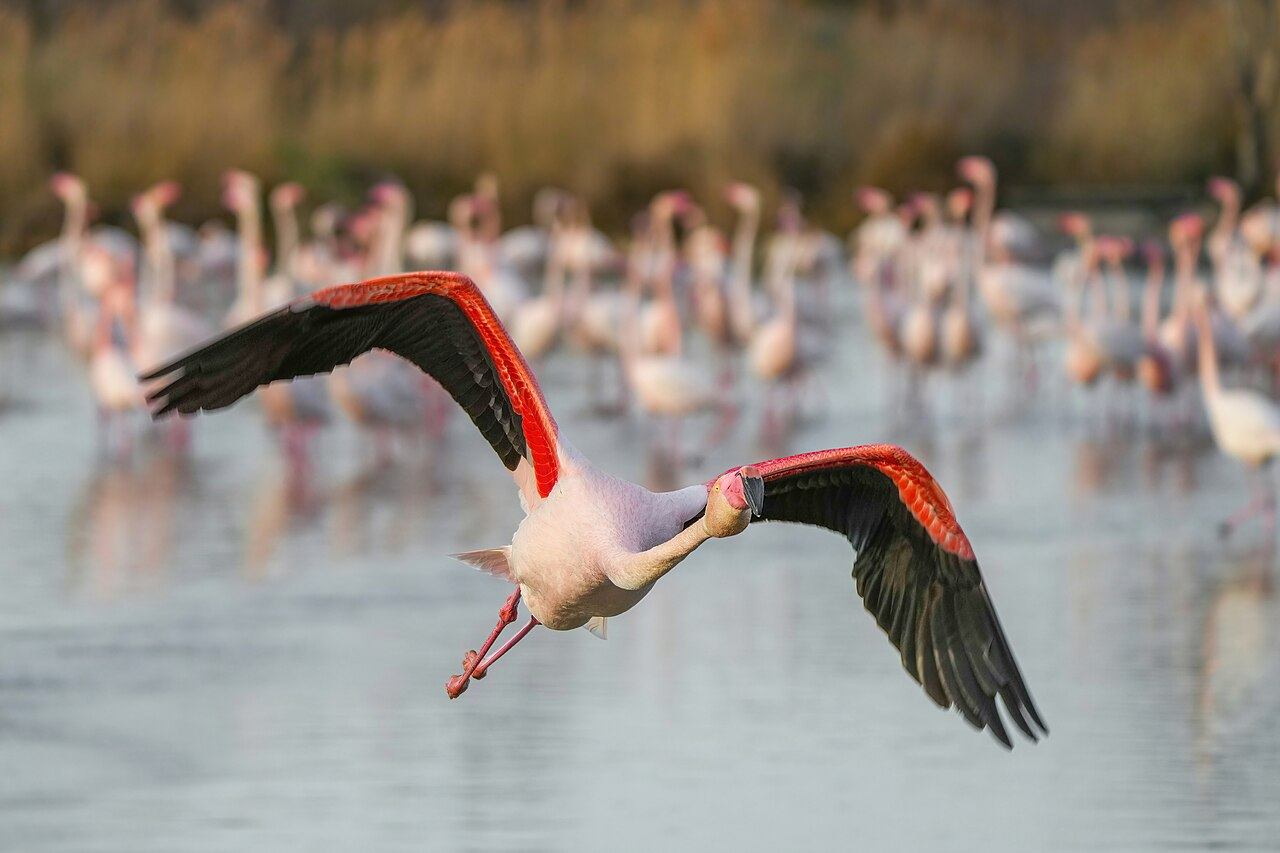bird: (134, 268, 1052, 752)
